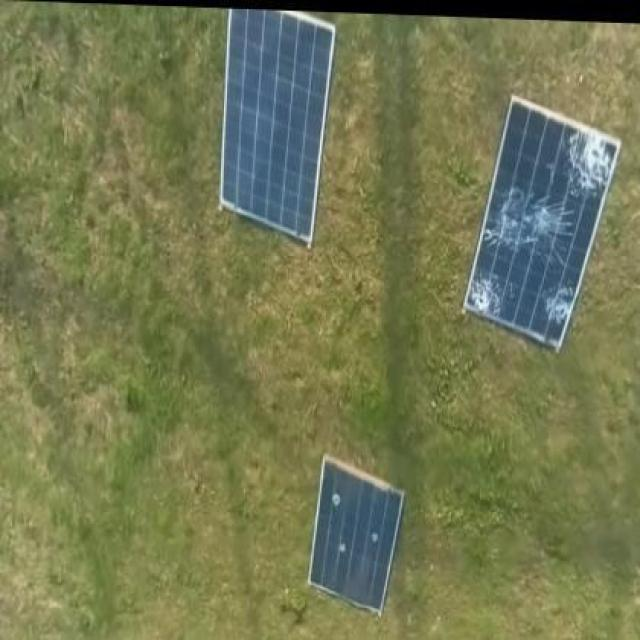cracked: (466, 92, 622, 354)
soiled: (302, 452, 404, 616)
